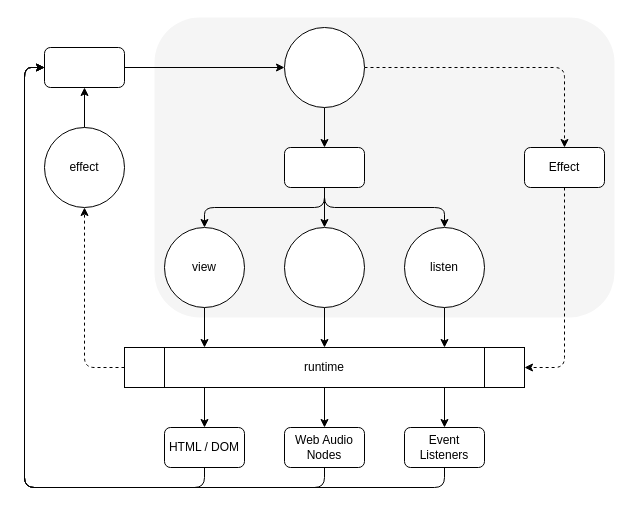
This 632x513 diagram has some shape labels left out. The shapes that lost their labels are listed below. From the top down, each one's centre as x and y in pixels, then its label:
At point 84,67: "Action".
At point 324,67: "update".
At point 324,167: "Model".
At point 324,267: "audio".
